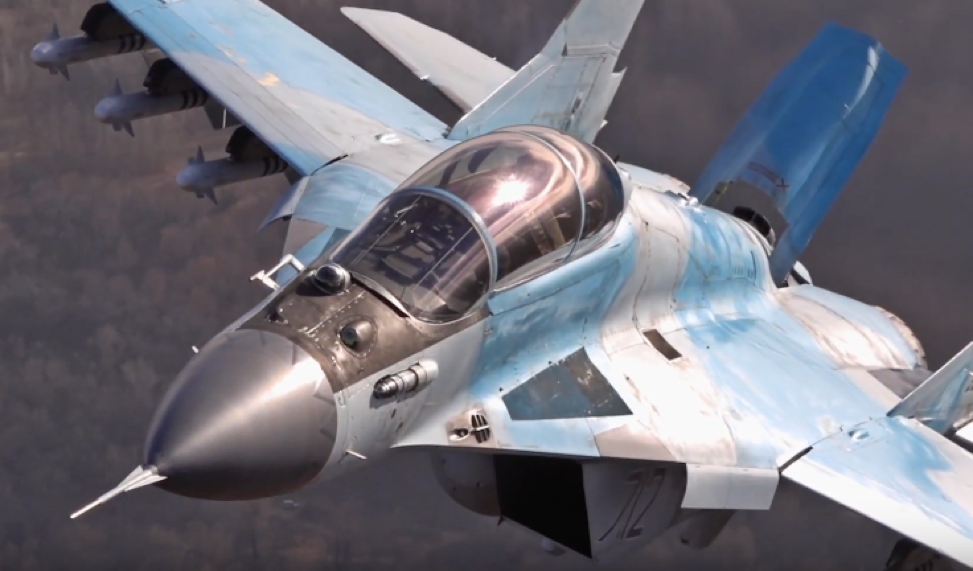Mig-29: (47, 7, 973, 548)
